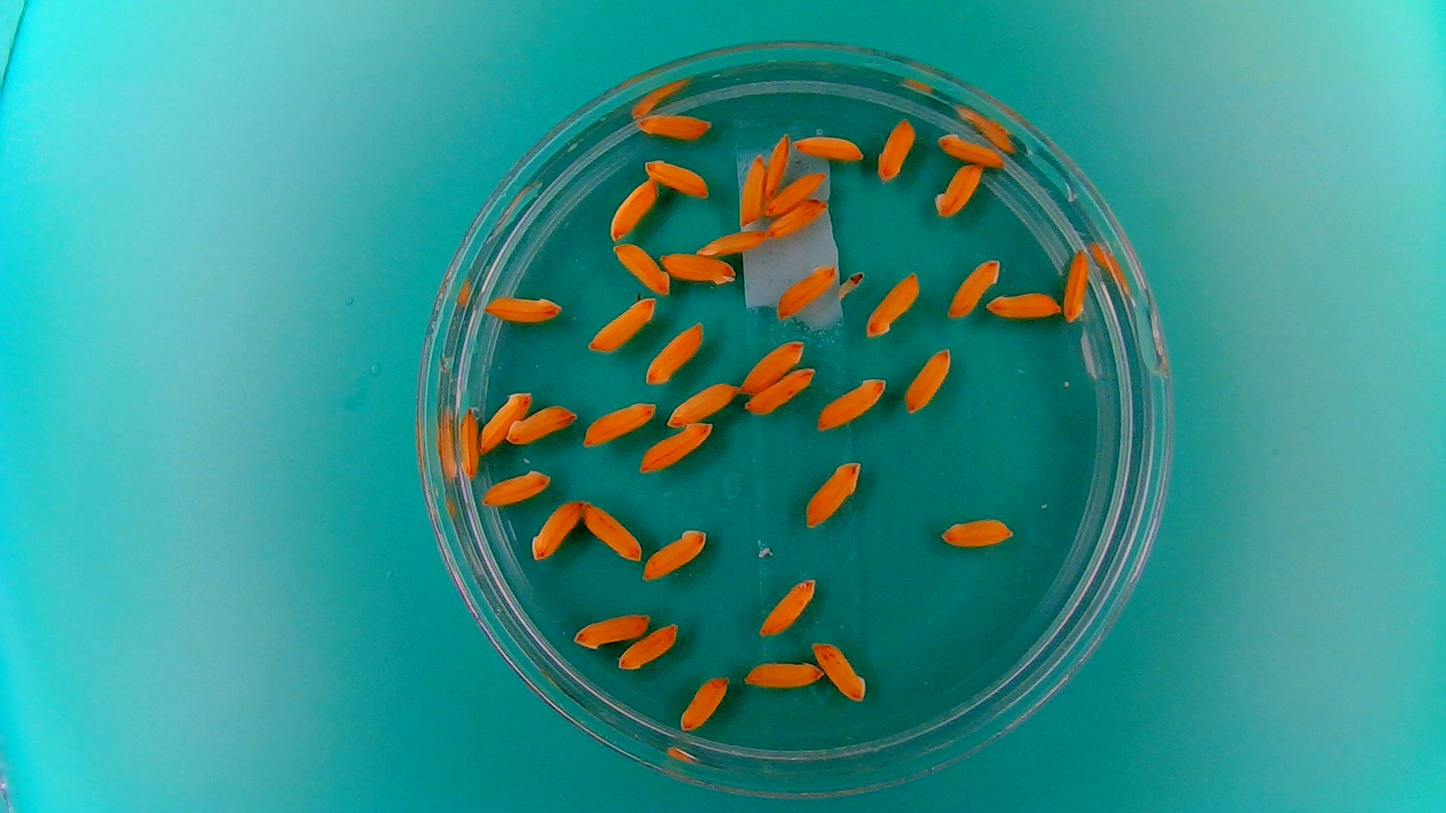no: (804, 456, 864, 530), (812, 373, 889, 430), (636, 421, 715, 474), (644, 318, 706, 385), (587, 294, 658, 352), (743, 364, 819, 418), (756, 573, 819, 638), (738, 336, 807, 394), (581, 499, 644, 562), (641, 525, 709, 583), (811, 637, 869, 704), (581, 397, 657, 447), (774, 262, 839, 320), (902, 343, 953, 416), (665, 379, 740, 428), (477, 387, 532, 453), (945, 256, 1001, 320), (529, 496, 583, 562), (614, 620, 681, 672), (570, 610, 652, 651), (611, 240, 672, 295), (608, 175, 658, 242), (761, 169, 829, 218), (505, 401, 579, 446), (678, 673, 730, 733), (657, 250, 738, 288), (480, 466, 554, 507), (932, 160, 984, 218), (935, 129, 1008, 169), (876, 114, 918, 183), (938, 514, 1017, 550), (643, 157, 712, 198), (481, 291, 564, 324), (766, 197, 829, 239), (742, 658, 823, 690), (984, 289, 1062, 321), (792, 129, 866, 162), (633, 110, 711, 141), (1061, 245, 1091, 324), (695, 226, 770, 257), (737, 151, 766, 227), (456, 404, 482, 480), (764, 133, 791, 199)
